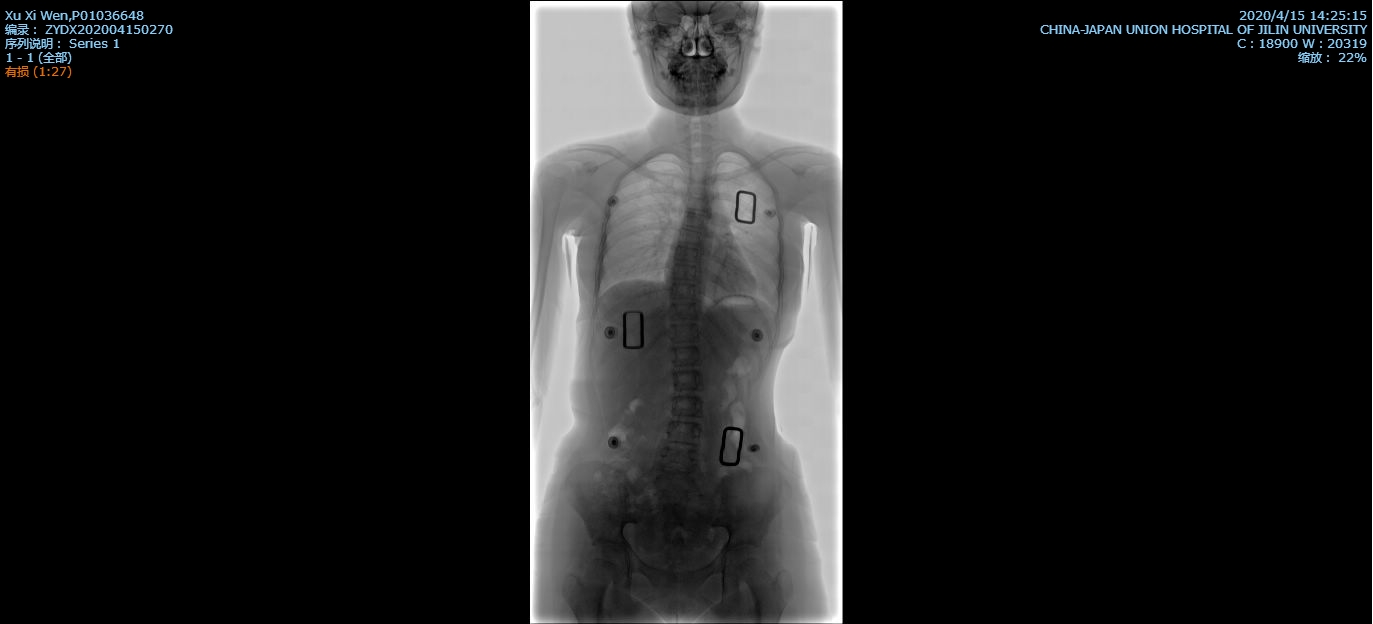Bone: (669, 421, 699, 442), (663, 451, 695, 469), (671, 397, 704, 414), (671, 372, 700, 390), (670, 324, 699, 342), (674, 348, 702, 366), (675, 248, 699, 264), (670, 284, 695, 299), (670, 306, 696, 319), (671, 265, 696, 278), (683, 212, 704, 226), (678, 230, 699, 243), (687, 199, 707, 210)
